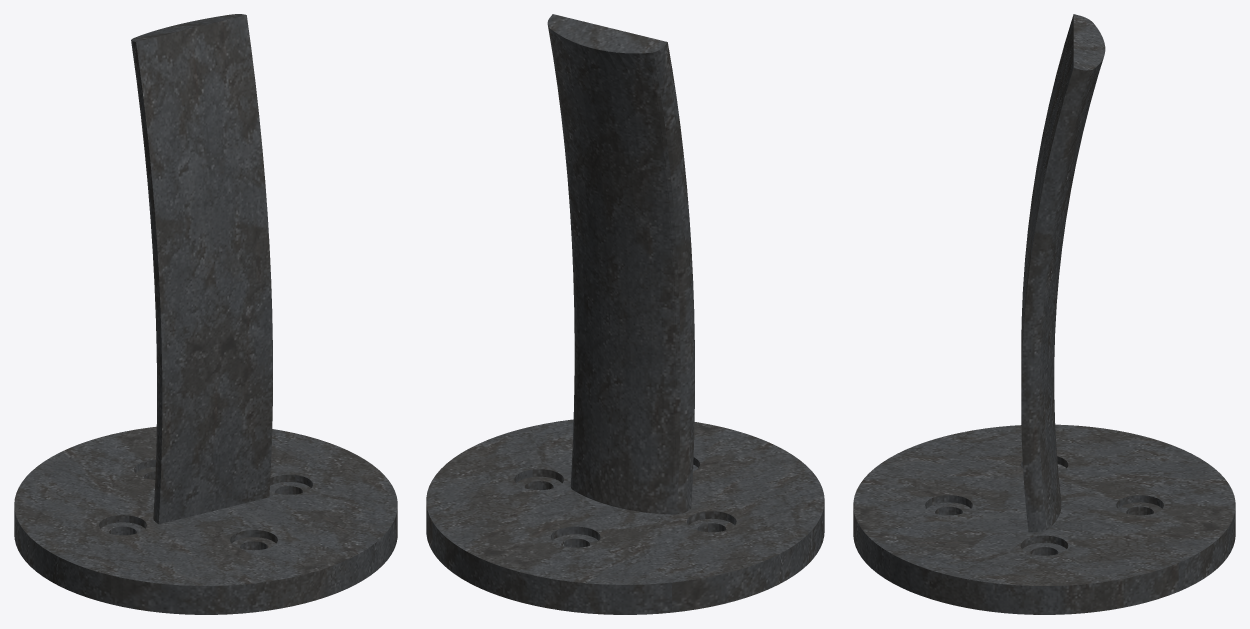
The model's file is support.fbx.
3 views of the same model, side by side, from view 1: azimuth 30°, elevation 25°; view 2: azimuth 150°, elevation 25°; view 3: azimuth 270°, elevation 25° (orthographic). The views are drawn at different scales.
Visible parts, largest first — view 1: the_rhino_by_david_rahn_1_1; view 2: the_rhino_by_david_rahn_1_1; view 3: the_rhino_by_david_rahn_1_1.
Part boxes in pixels (box(x1,y1,x2,y2)): the_rhino_by_david_rahn_1_1: box(14, 14, 397, 614); the_rhino_by_david_rahn_1_1: box(426, 14, 824, 614); the_rhino_by_david_rahn_1_1: box(853, 14, 1235, 614).
Size of the model in its own units: 2400 by 3416 by 2400.
1 material, 1 textured.
